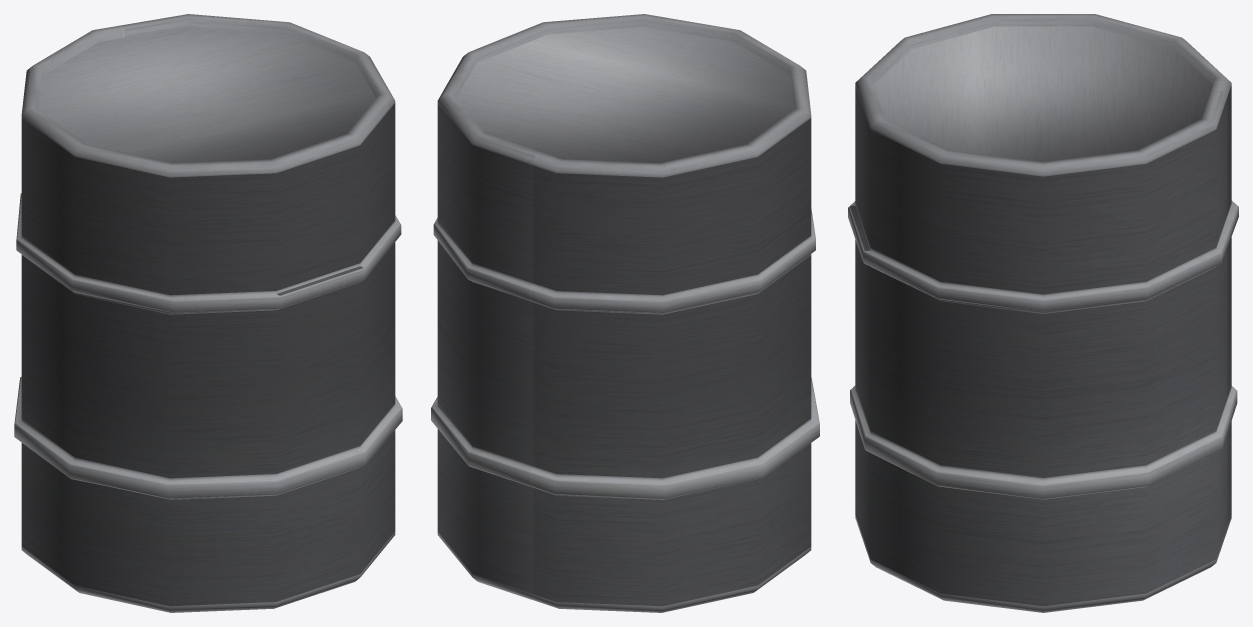
File: Standard Barrel.FBX
The picture shows the model from 3 angles, left to right: view 1: azimuth 30°, elevation 25°; view 2: azimuth 150°, elevation 25°; view 3: azimuth 270°, elevation 25°; orthographic projection.
Parts seen in each view (by area): view 1: Standard Barrel; view 2: Standard Barrel; view 3: Standard Barrel.
Part boxes in pixels (left/top/right/bottom): Standard Barrel: left=14, top=14, right=402, bottom=612; Standard Barrel: left=431, top=14, right=819, bottom=612; Standard Barrel: left=848, top=14, right=1238, bottom=612.
Bounding box in the file's own units: 24.92 × 31.71 × 25.14.
